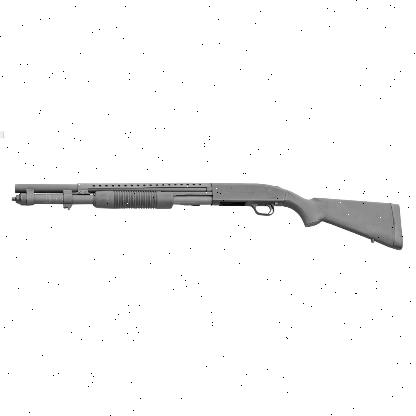gun: (12, 181, 402, 249)
